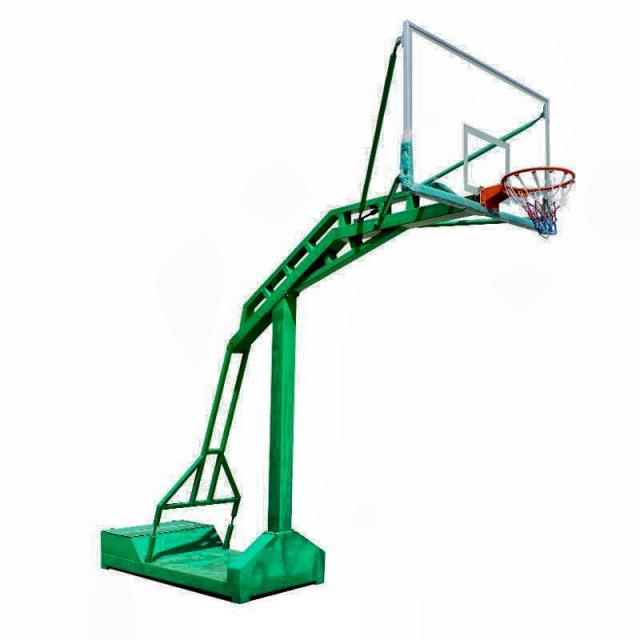rim: (500, 165, 578, 238)
